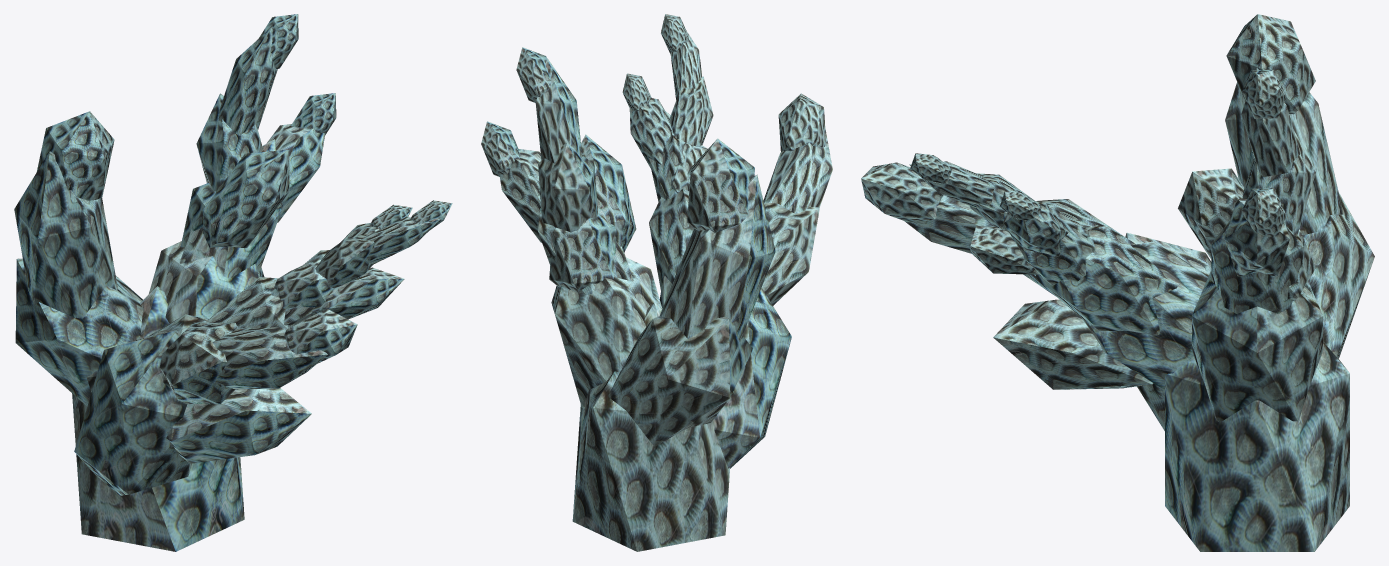
Rendered from Coral_01.fbx.
The picture shows the model from 3 angles, left to right: view 1: azimuth 30°, elevation 25°; view 2: azimuth 150°, elevation 25°; view 3: azimuth 270°, elevation 25°; orthographic projection. The views are drawn at different scales.
Parts seen in each view (by area): view 1: Coral_03; view 2: Coral_03; view 3: Coral_03.
Boxes of the visible parts, box(x1,y1,x2,y2) form: Coral_03: box(14, 14, 452, 551); Coral_03: box(481, 14, 832, 551); Coral_03: box(861, 14, 1374, 551).
Size of the model in its own units: 1.26 by 1.86 by 1.66.
